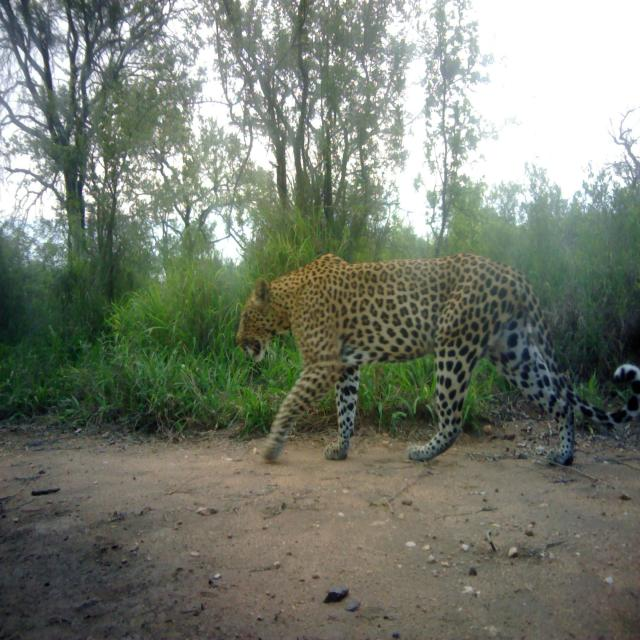Leopard: (230, 240, 632, 478)
